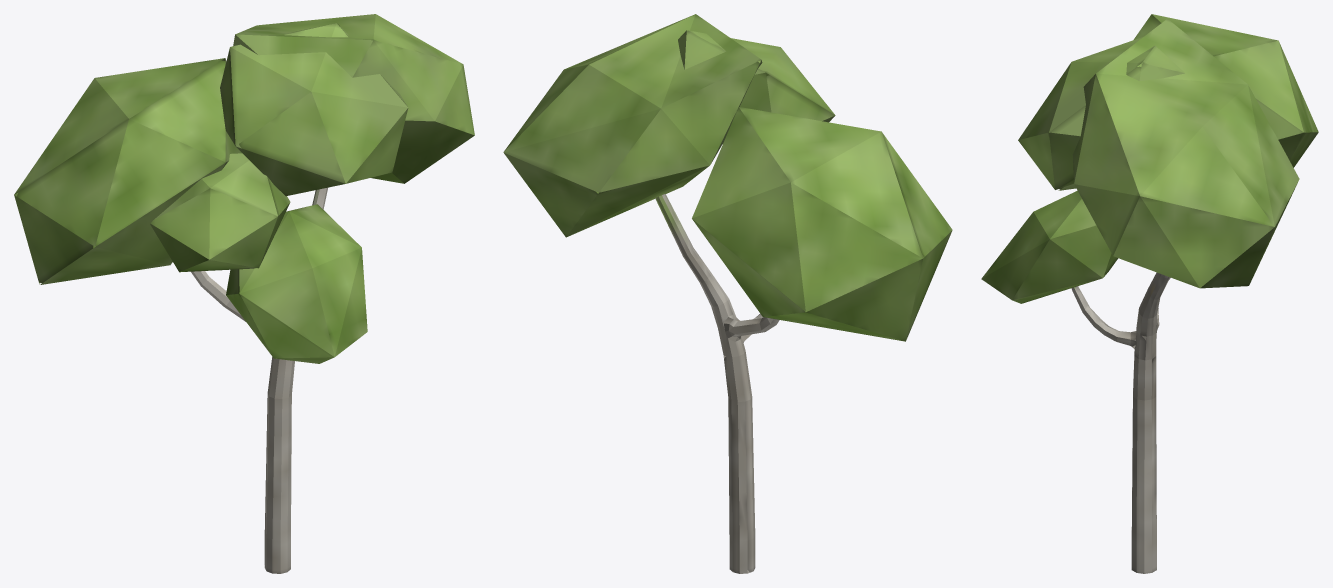
File: tree_basic2.fbx
The picture shows the model from 3 angles, left to right: view 1: azimuth 30°, elevation 25°; view 2: azimuth 150°, elevation 25°; view 3: azimuth 270°, elevation 25°; orthographic projection.
Visible parts, largest first — view 1: group2_3, group2_4, group2_2, group2, pPlatonic8, group2_1; view 2: group2_3, group2, group2_1, group2_4; view 3: group2, group2_2, group2_1, group2_3, group2_4.
Part boxes in pixels (<box>): group2_3: <box>14,58,241,284</box>; group2_4: <box>220,23,408,196</box>; group2_2: <box>226,204,367,363</box>; group2: <box>233,14,474,183</box>; pPlatonic8: <box>150,153,290,272</box>; group2_1: <box>191,187,327,573</box>; group2_3: <box>692,107,952,341</box>; group2: <box>503,14,762,237</box>; group2_1: <box>655,194,779,573</box>; group2_4: <box>678,30,835,122</box>; group2: <box>1072,19,1299,288</box>; group2_2: <box>981,190,1118,303</box>; group2_1: <box>1071,272,1170,573</box>; group2_3: <box>1133,14,1318,167</box>; group2_4: <box>1018,37,1184,189</box>.
Bounding box in the file's own units: 225 × 274 × 157.
Materials: 1 (1 with a texture image).
